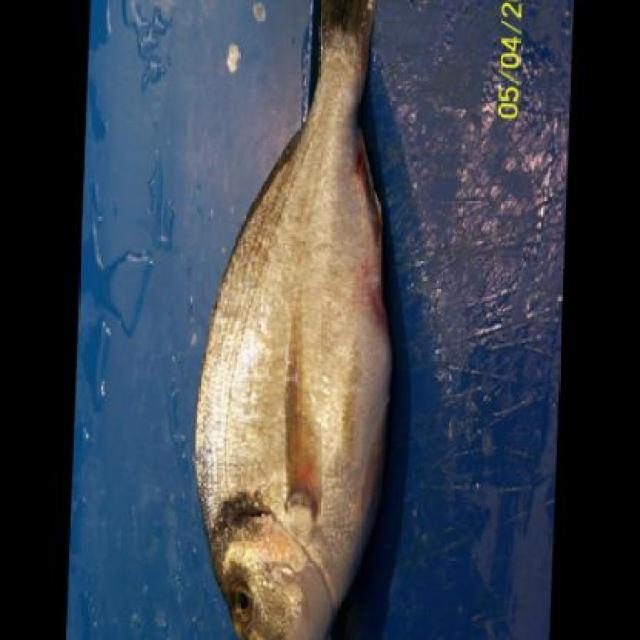Healthy Fish: (185, 0, 411, 640)
